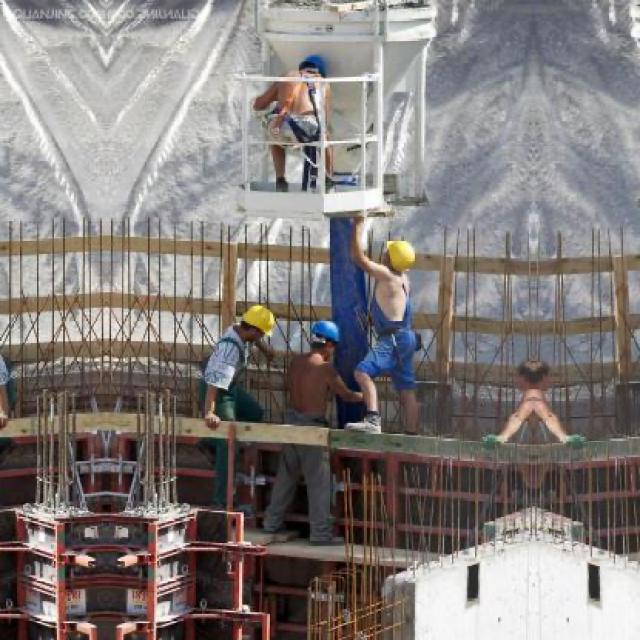con casco: (372, 212, 427, 284), (196, 303, 265, 352), (291, 310, 329, 366)
